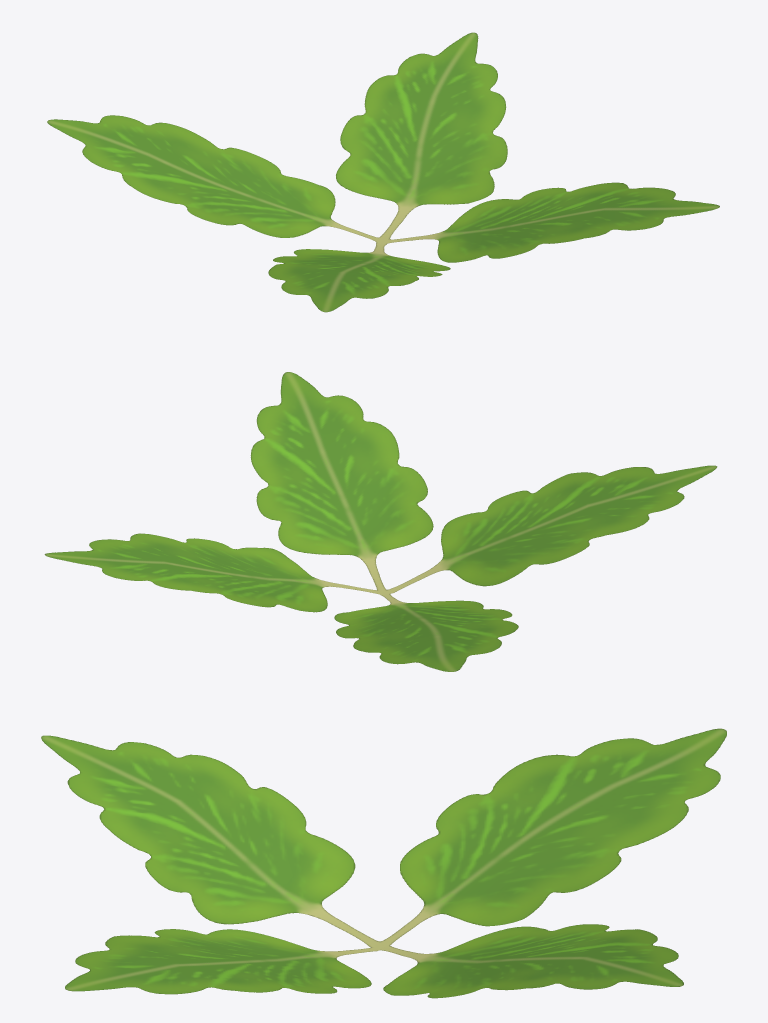
Rendered from SM_Sprout_Three.fbx.
3 renders of one model, top to bottom at view 1: azimuth 30°, elevation 25°; view 2: azimuth 150°, elevation 25°; view 3: azimuth 270°, elevation 25°, orthographic. The views are drawn at different scales.
Visible parts, largest first — view 1: polySurface12; view 2: polySurface12; view 3: polySurface12.
Boxes of the visible parts, box(x1,y1,x2,y2) form: polySurface12: box(47, 32, 719, 312); polySurface12: box(44, 372, 717, 671); polySurface12: box(41, 728, 726, 998).
Bounding box in the file's own units: 31.35 × 34.29 × 5.05.
